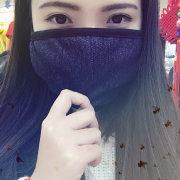OK: (38, 1, 142, 102)
